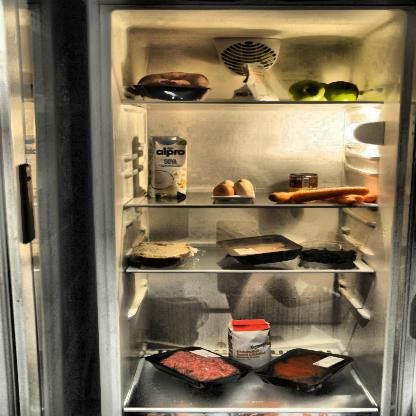apple: (289, 78, 360, 102)
beef: (271, 350, 339, 386)
blueberries: (300, 248, 356, 265)
carrot: (270, 187, 378, 205)
chicken: (136, 72, 210, 102), (226, 239, 296, 260)
corn: (290, 173, 318, 195)
eggs: (212, 179, 258, 200)
ground_beef: (157, 348, 239, 384)
milk: (148, 136, 188, 200)
